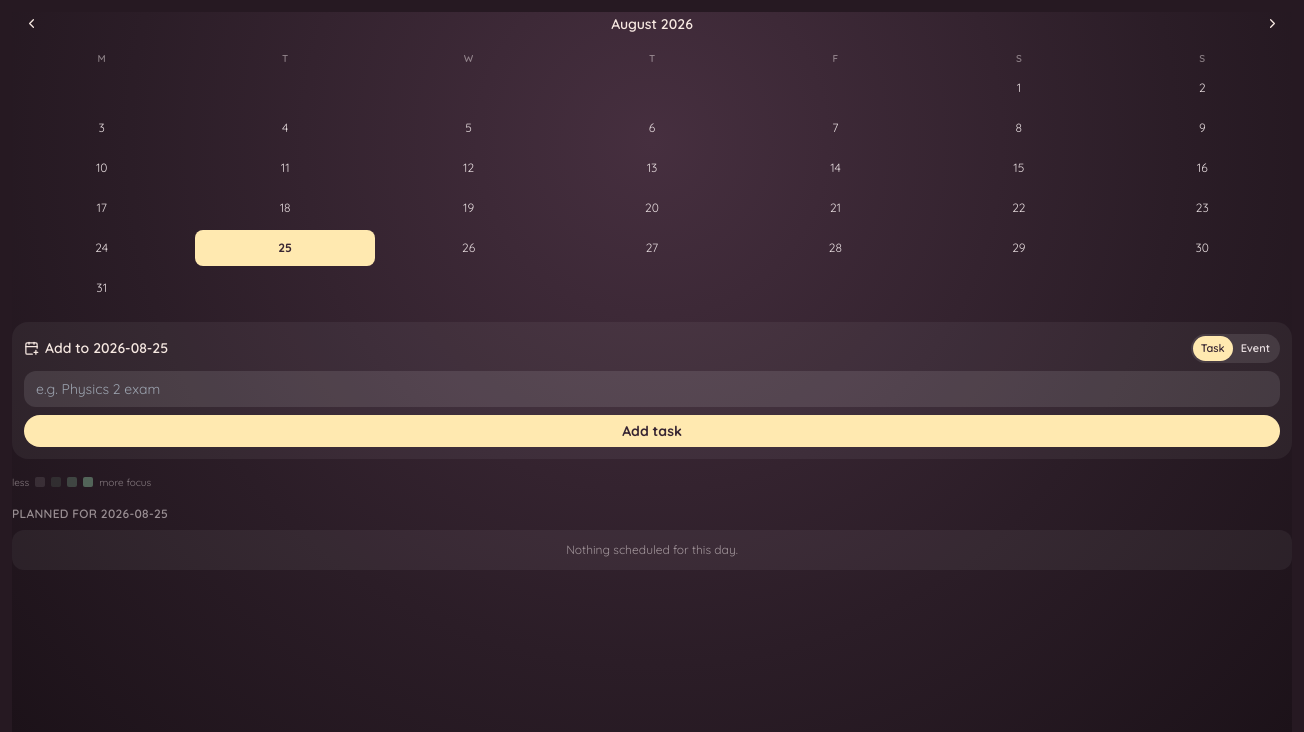
Test: calendar navigation › returns to today after browsing another month
The image size is (1304, 732).
What coordinates should you click on to do the following:
click the button named "Previous month"
I would click on:
 (32, 24)
Its box is [12, 12, 51, 35].
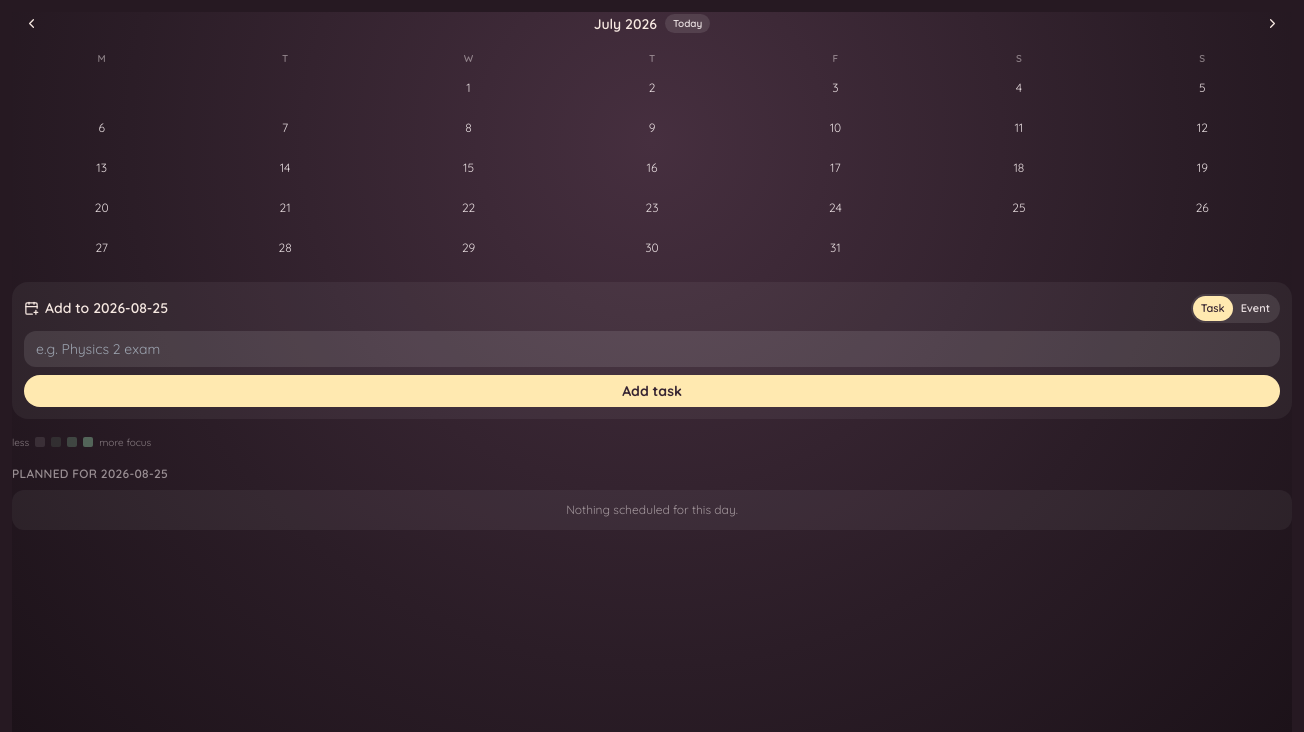
expect the text "July 2026" is shown: met, box [594, 14, 657, 34]
What coordinates should you click on to do the following:
click the button "Today"
I would click on:
 (688, 24)
Its box is [665, 14, 710, 33].
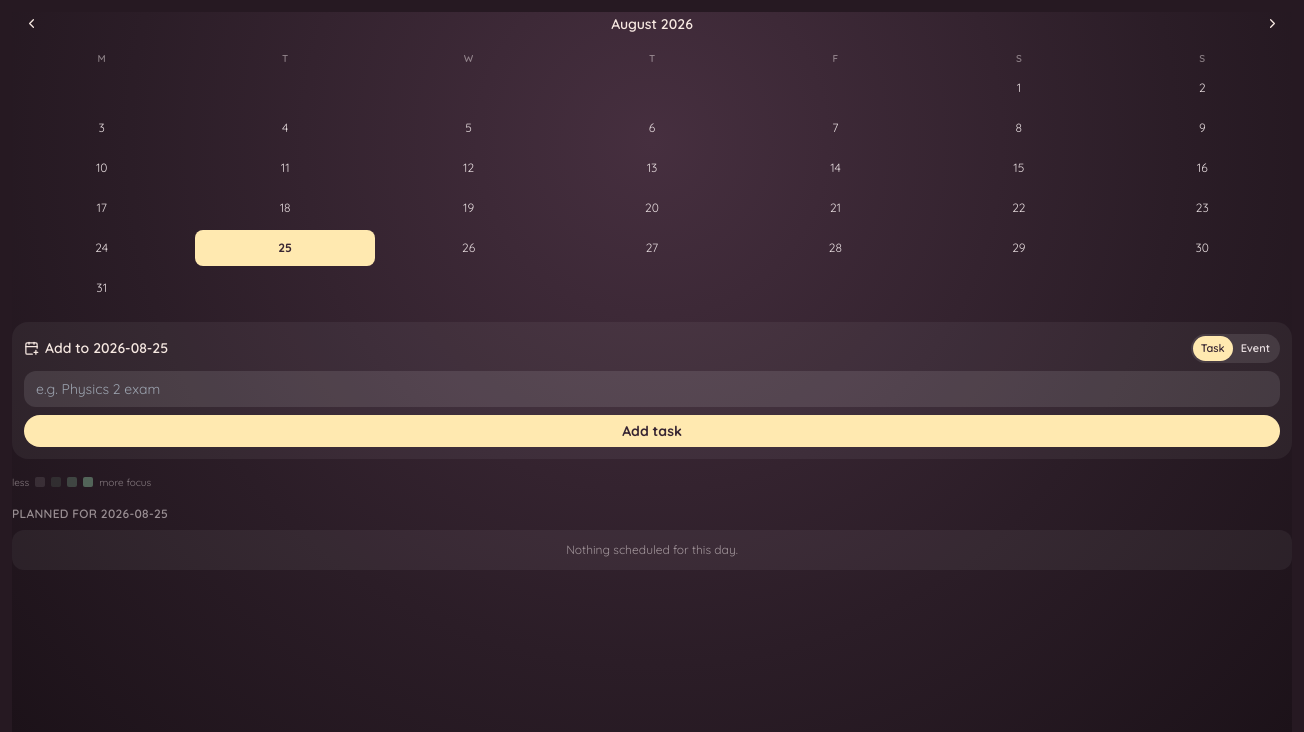
expect the text "August 2026" is shown: met, box [611, 14, 693, 34]
expect the button named "August 25, 2026" is shown: met, box [195, 230, 375, 266]
